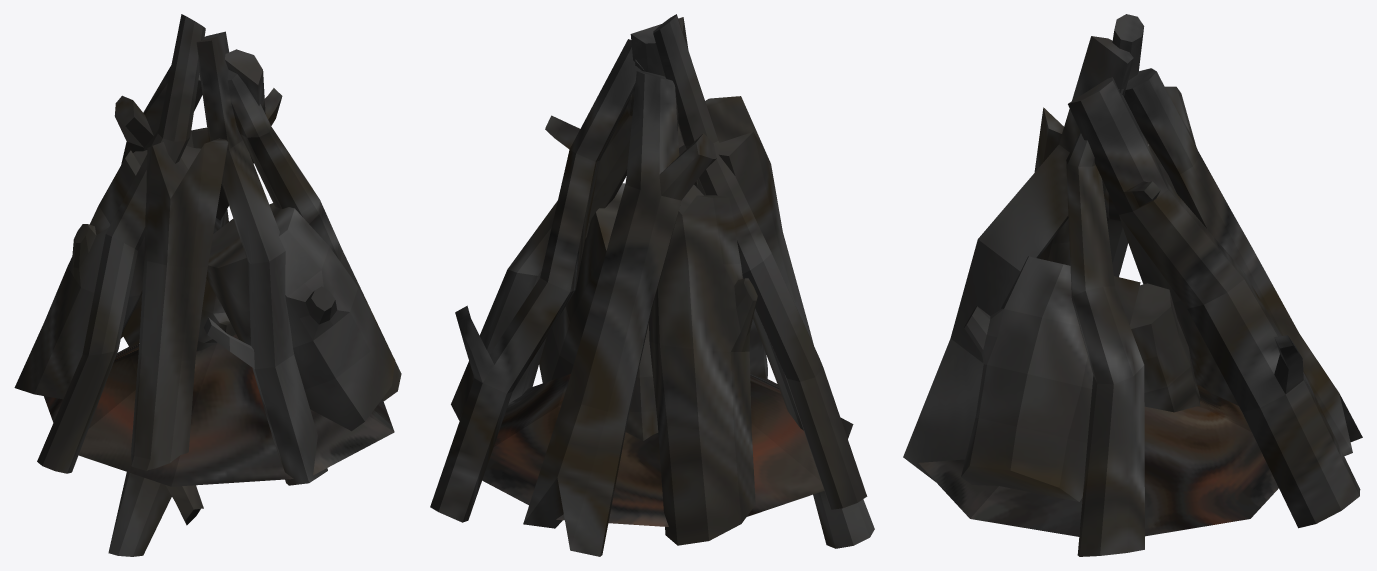
The model's file is Bonfire.fbx.
3 views of the same model, side by side, from view 1: azimuth 30°, elevation 25°; view 2: azimuth 150°, elevation 25°; view 3: azimuth 270°, elevation 25° (orthographic). The views are drawn at different scales.
Parts seen in each view (by area): view 1: Bonfire, Kindling; view 2: Bonfire, Kindling; view 3: Bonfire, Kindling.
Boxes of the visible parts, x1,y1,x2,y2 form: Bonfire: (14, 14, 401, 556); Kindling: (44, 334, 394, 486); Bonfire: (430, 14, 874, 556); Kindling: (482, 374, 853, 526); Bonfire: (903, 14, 1362, 556); Kindling: (918, 385, 1278, 536).
Size of the model in its own units: 3.28 by 3.23 by 4.12.
Materials: 2 (2 with a texture image).
